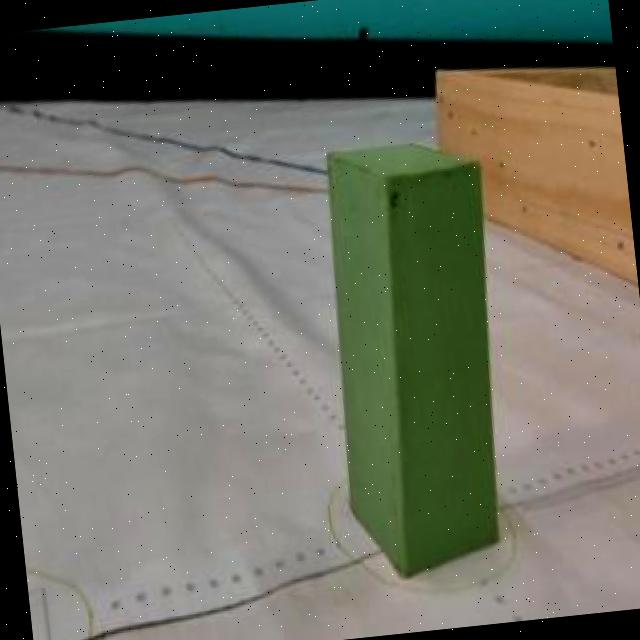greenbox: (310, 130, 524, 587)
